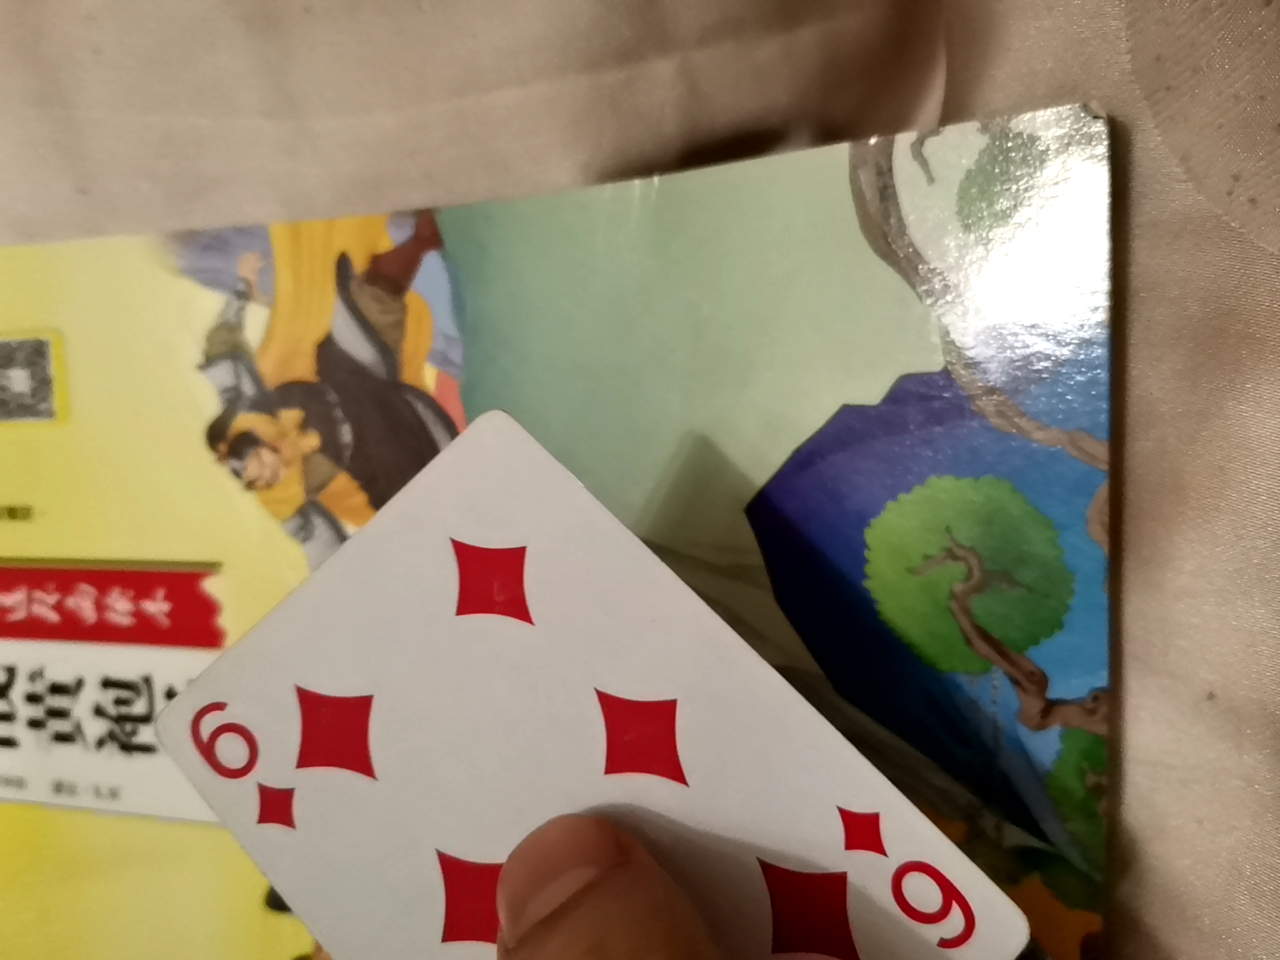fk 6: (203, 410, 948, 944)
